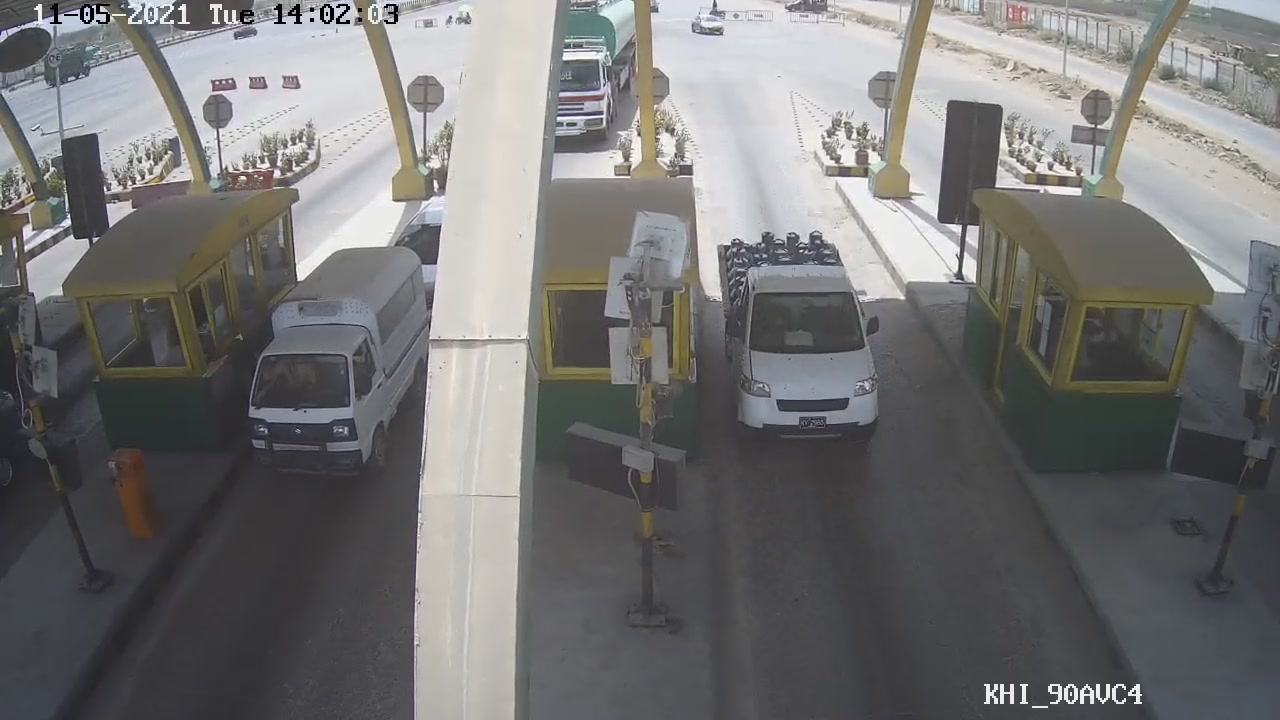F2: (720, 196, 881, 453)
